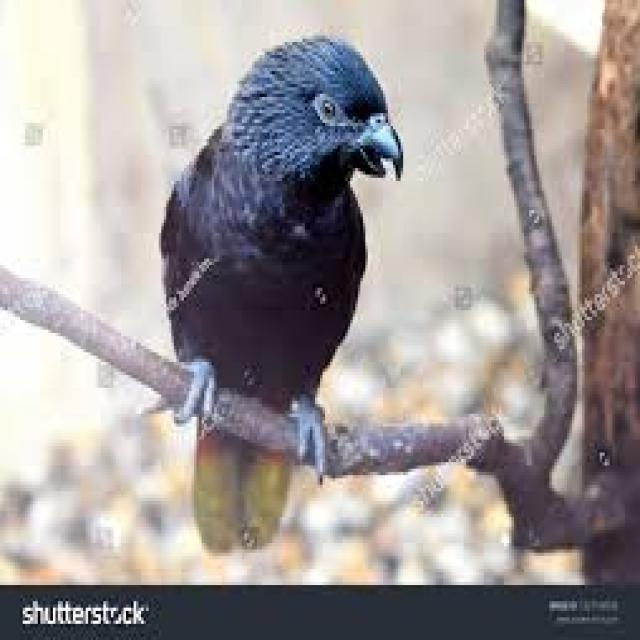Nuri Hitam: (144, 23, 411, 561)
